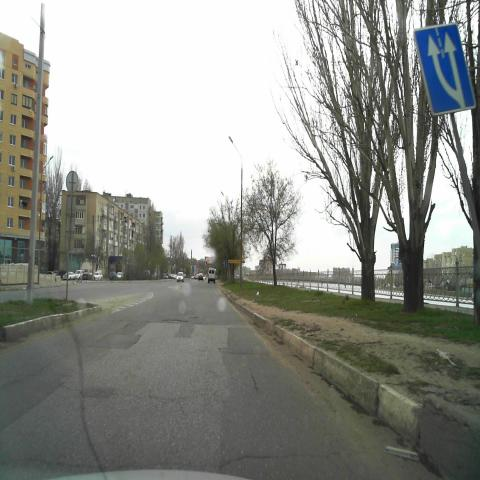5_15_3: (414, 24, 477, 118)
